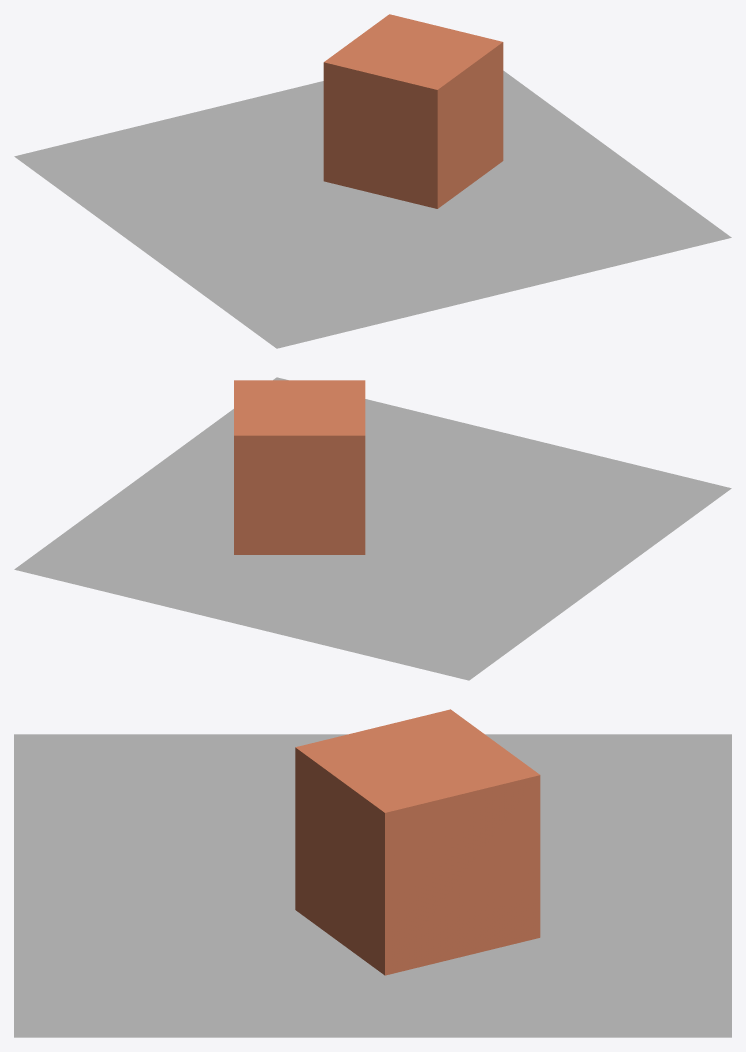
File: staged.cz.glb
3 views of the same model, one above another, from view 1: azimuth 30°, elevation 25°; view 2: azimuth 150°, elevation 25°; view 3: azimuth 270°, elevation 25° (orthographic). The views are drawn at different scales.
Size of the model in its own units: 4 by 1 by 4.
